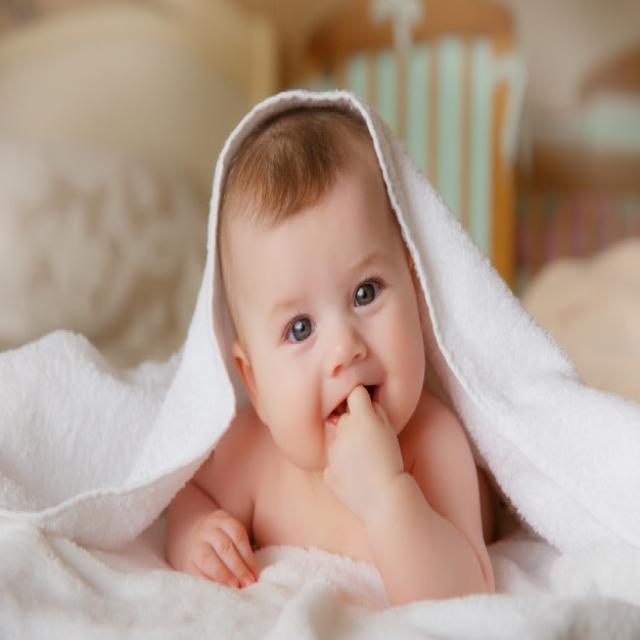non-dog: (160, 107, 497, 603)
